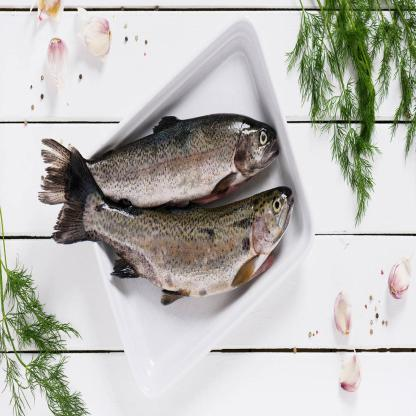fish: (51, 146, 296, 306), (37, 111, 280, 216)
